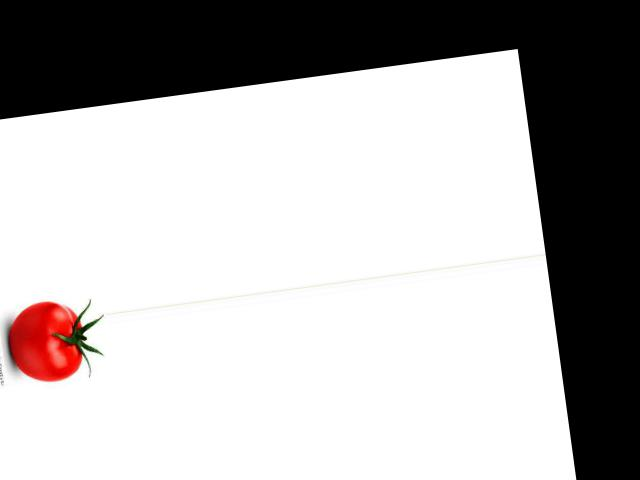tomato: (5, 296, 87, 385)
